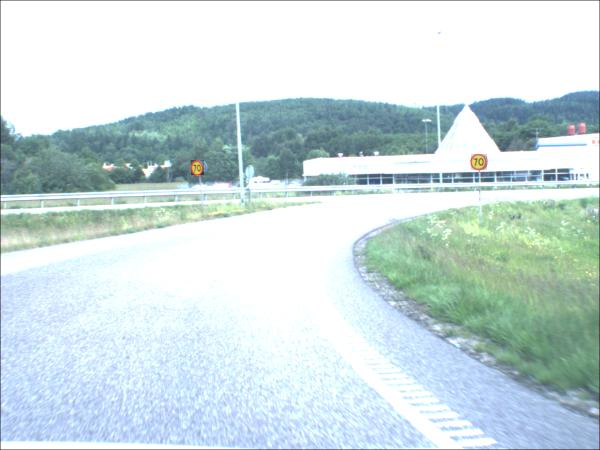70_SIGN: (472, 155, 489, 172), (193, 161, 207, 177)
